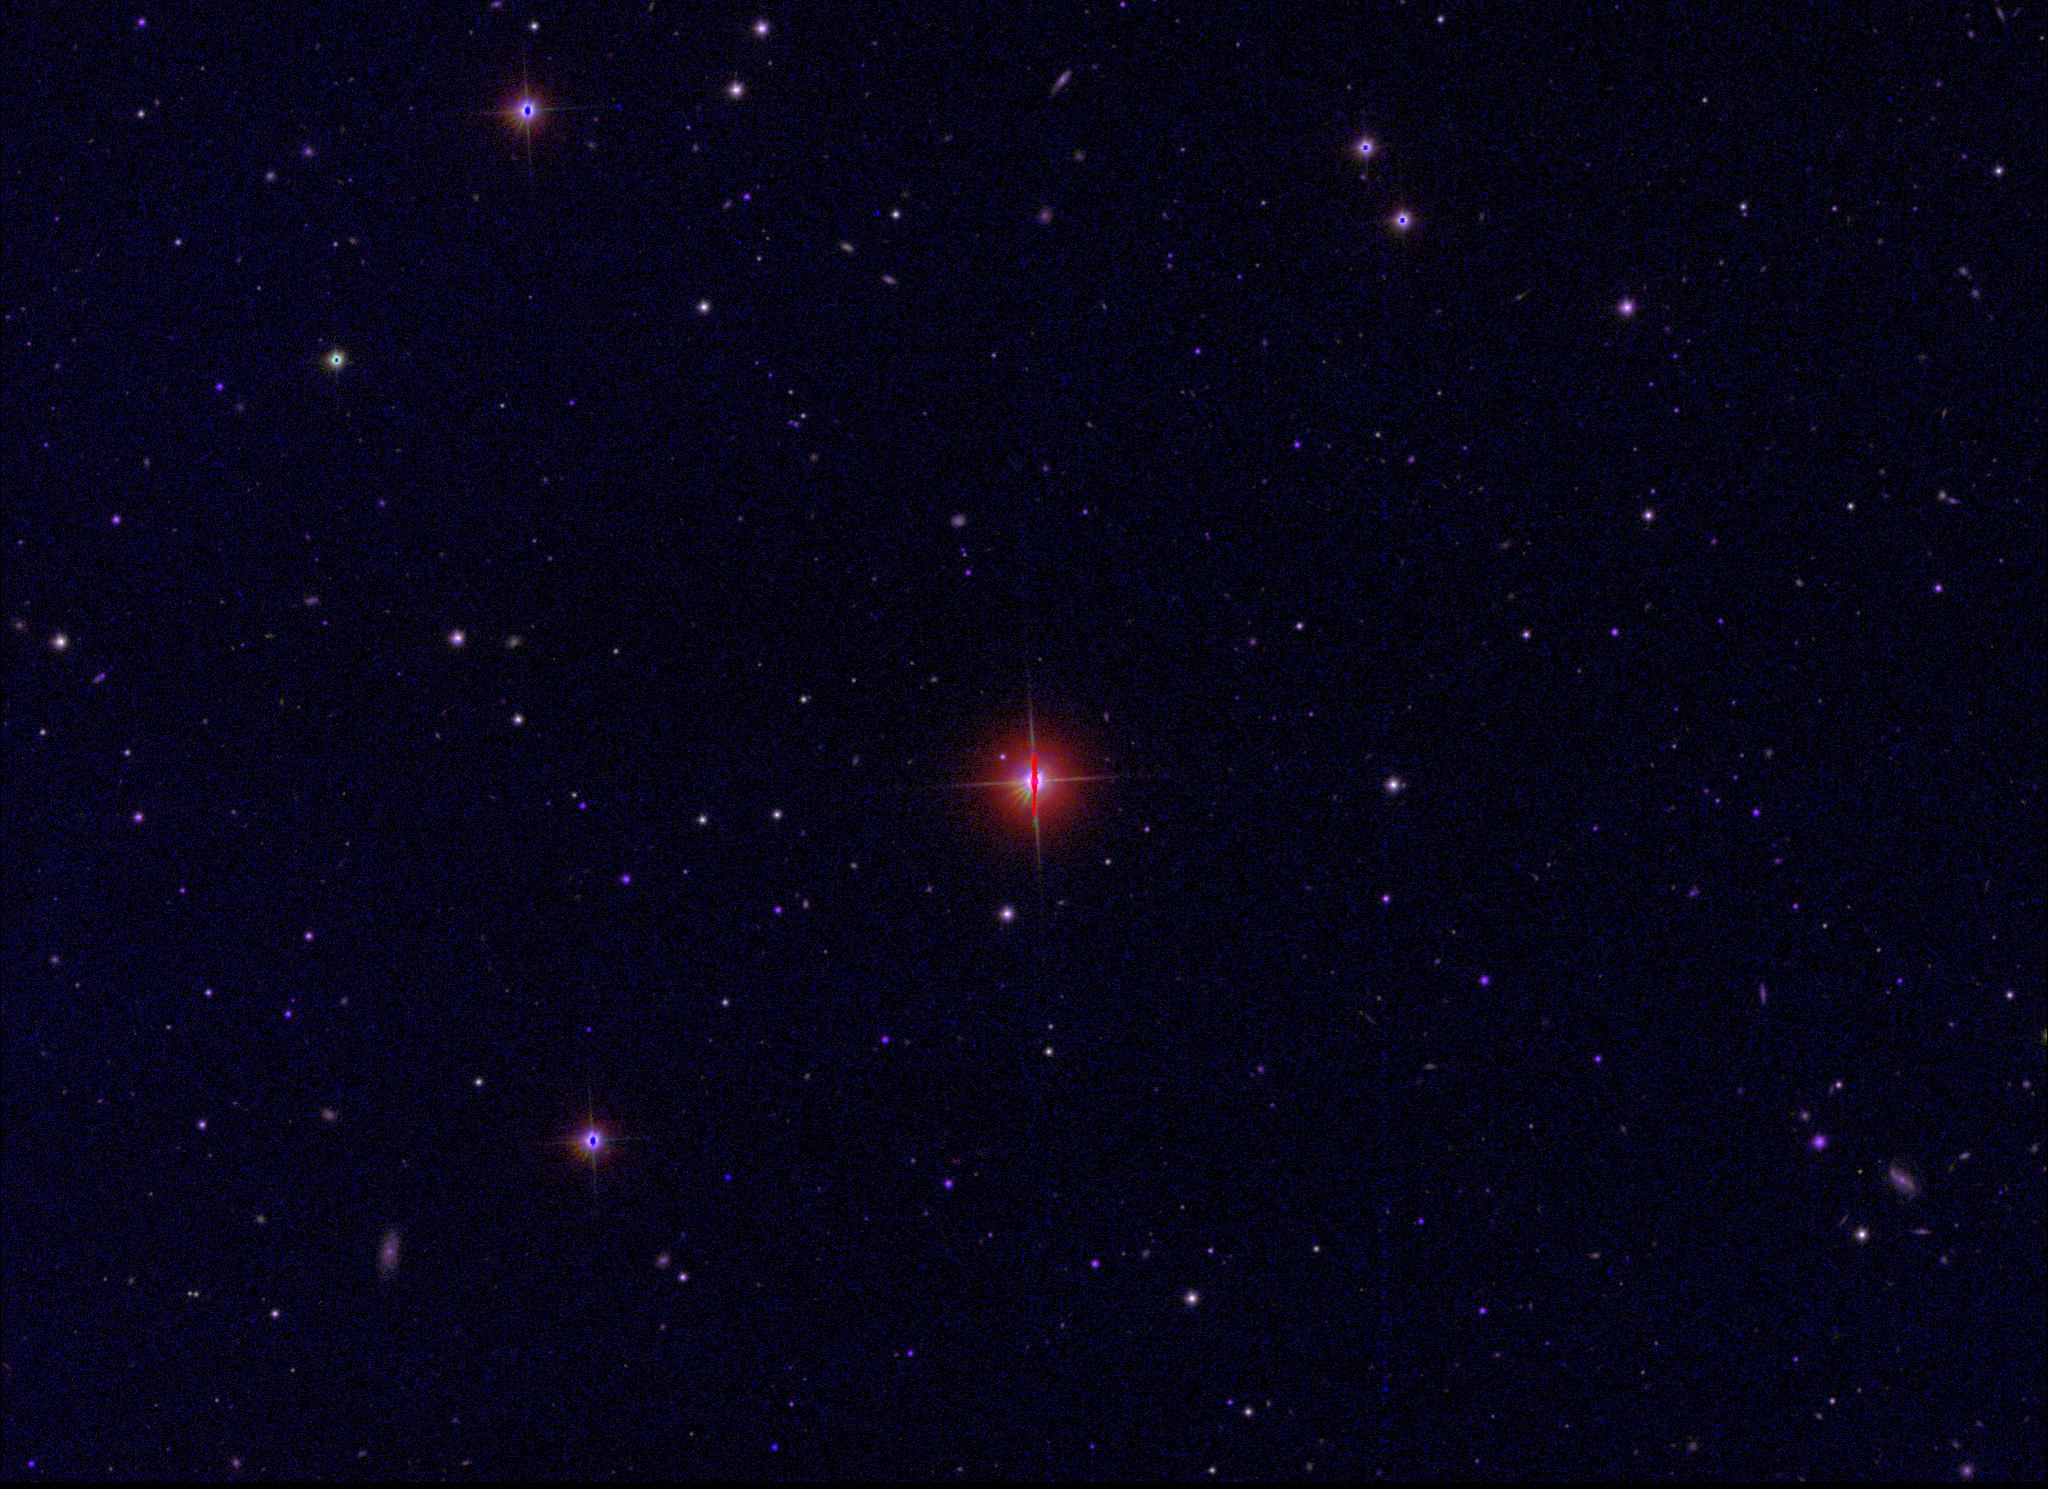L: (720, 1169, 735, 1184)
